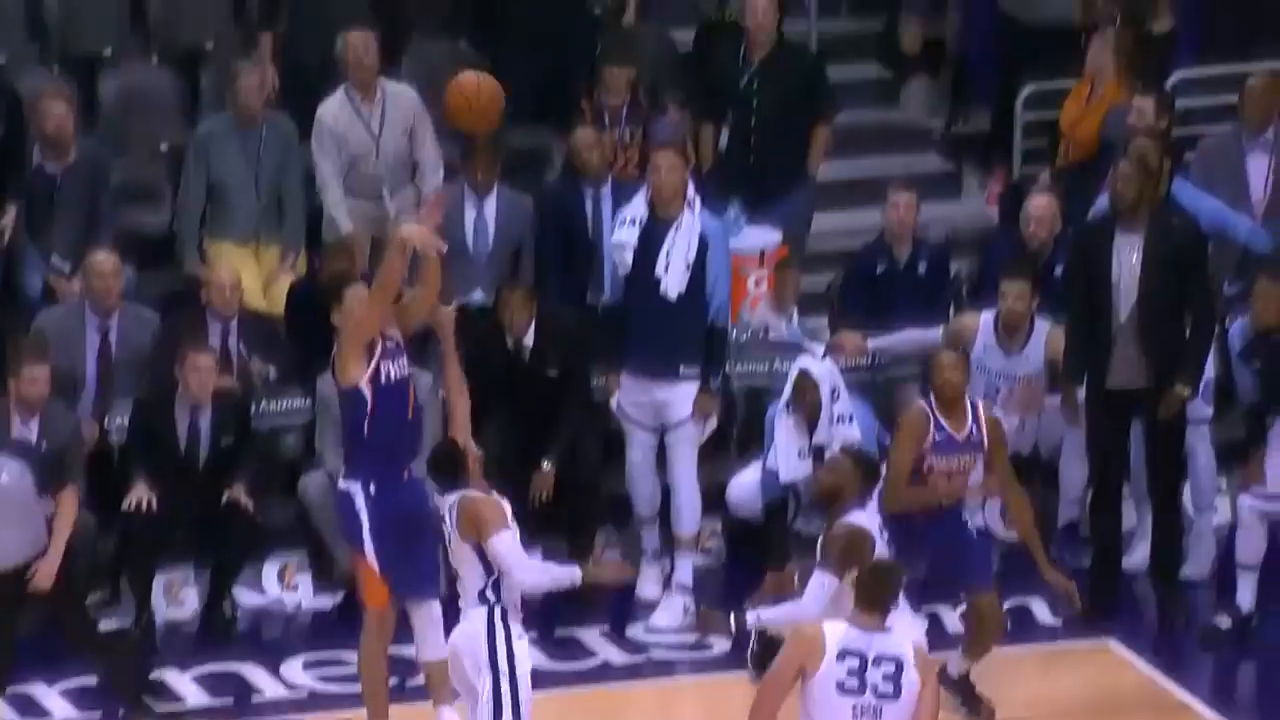ball: (444, 70, 509, 139)
